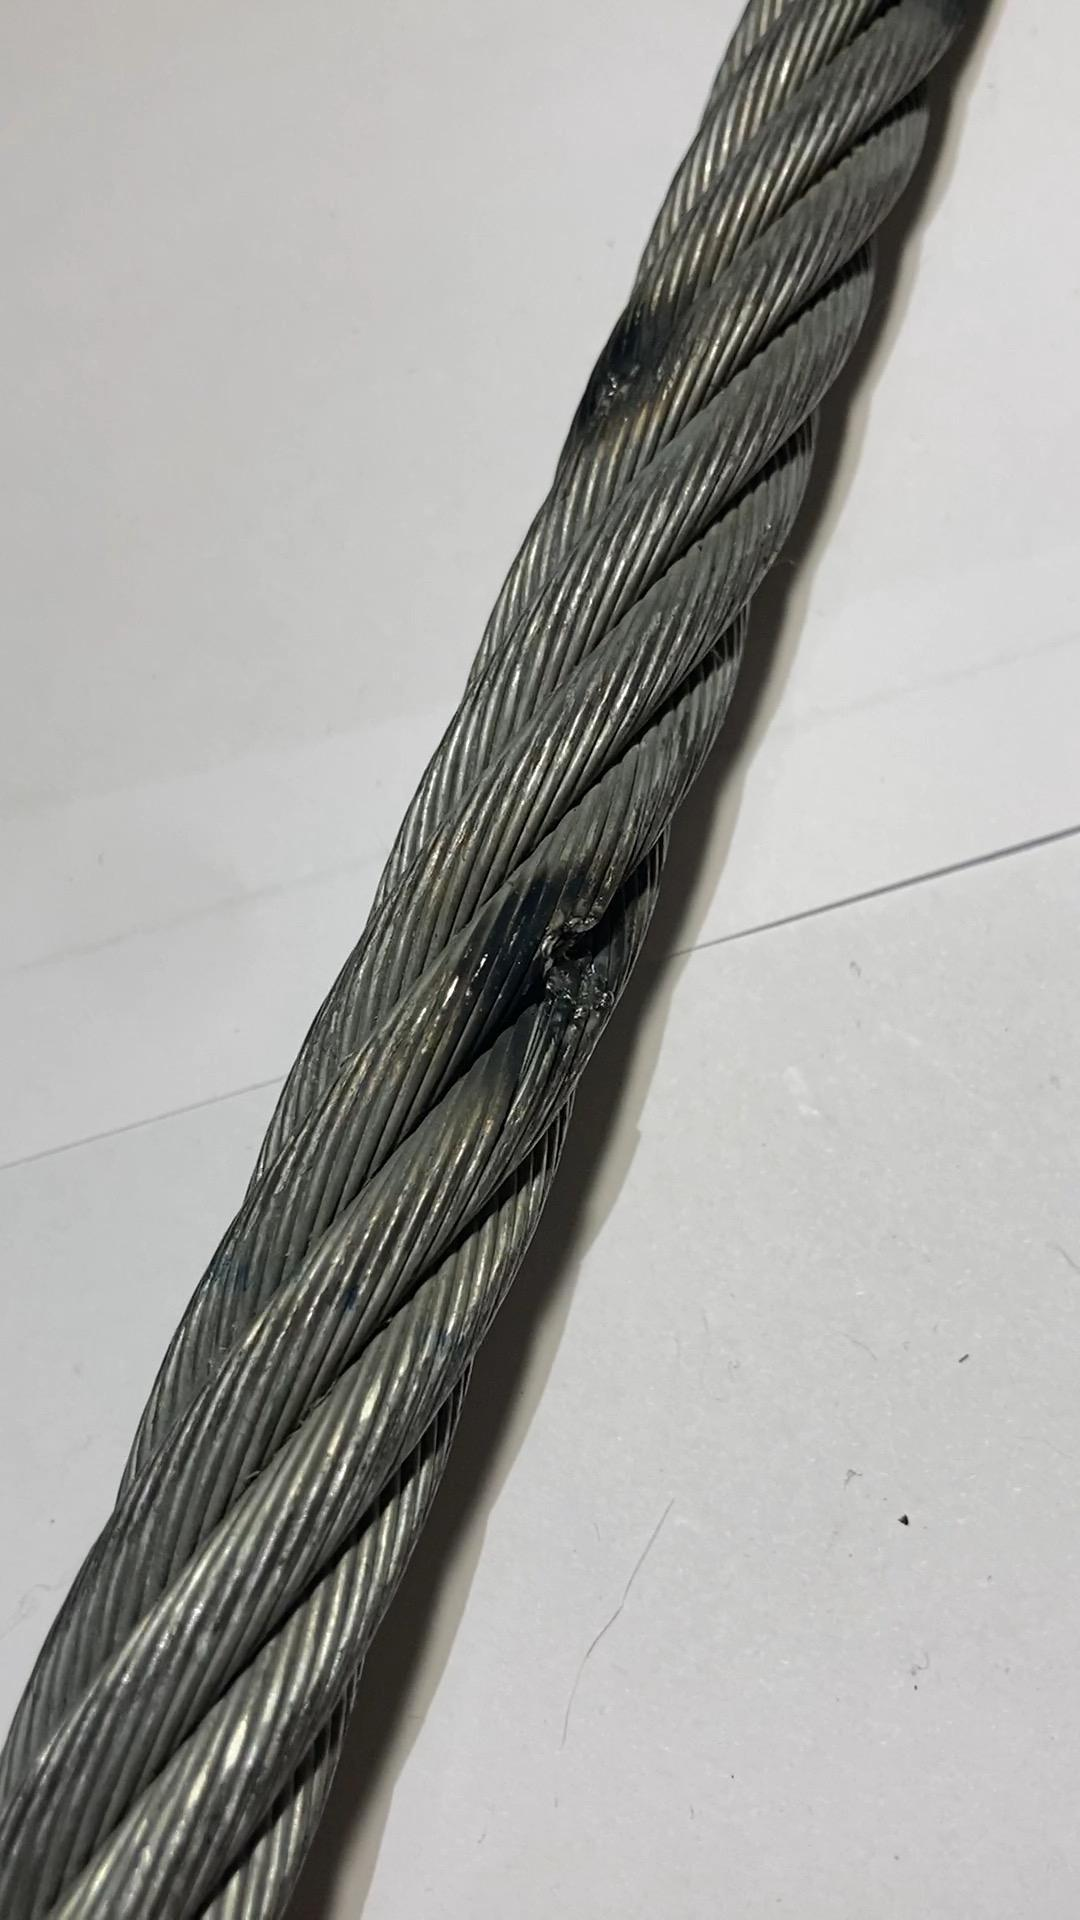thunderbolt: (517, 865, 641, 1085), (551, 255, 698, 425)
